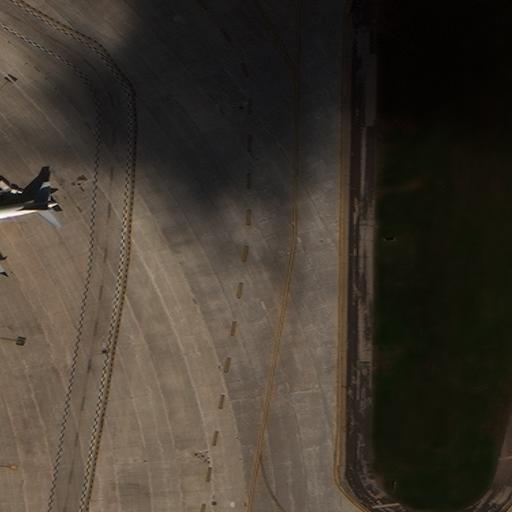Large Civil Transport: (0, 175, 57, 275)
